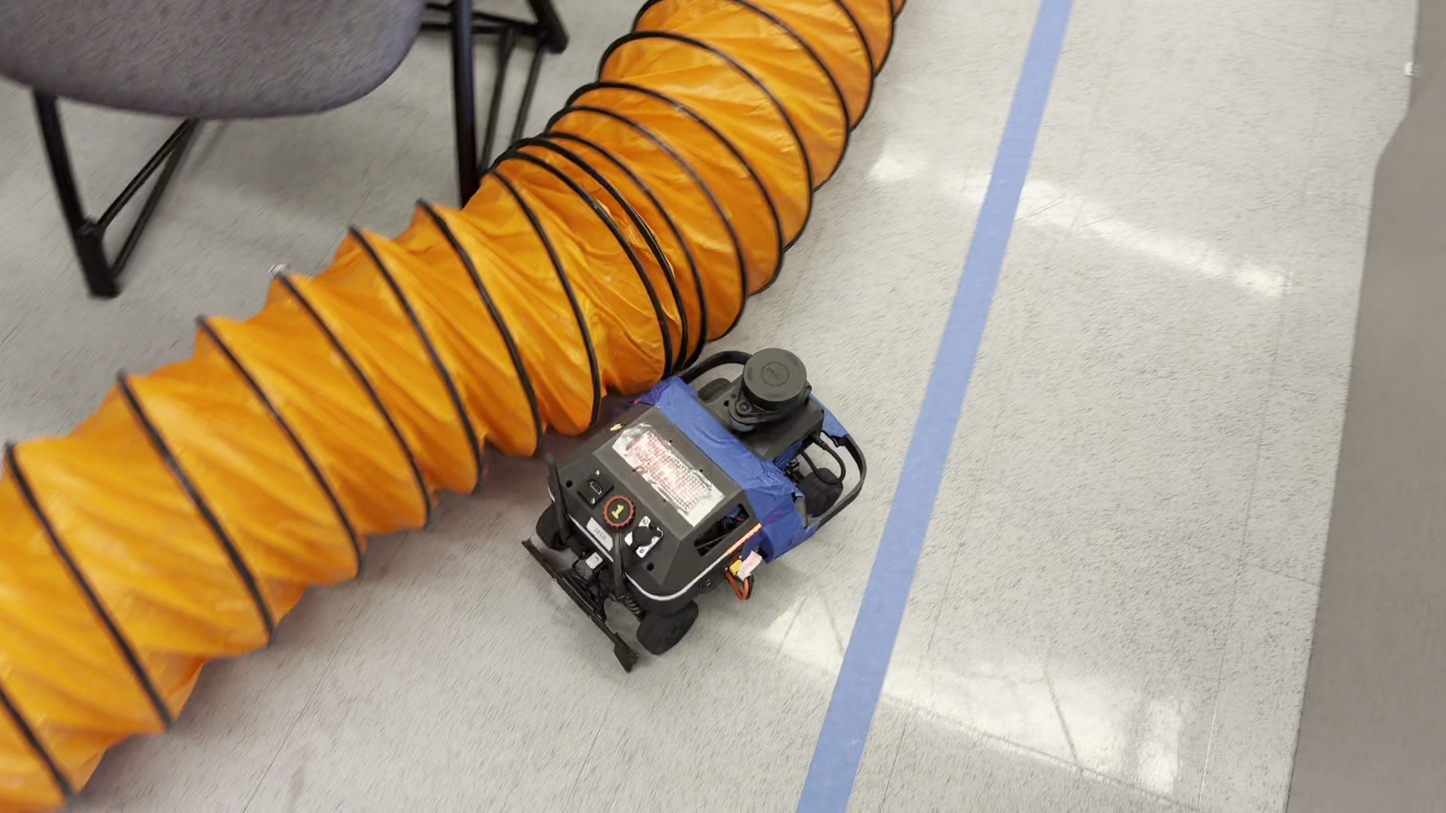racecar: (523, 343, 868, 672)
